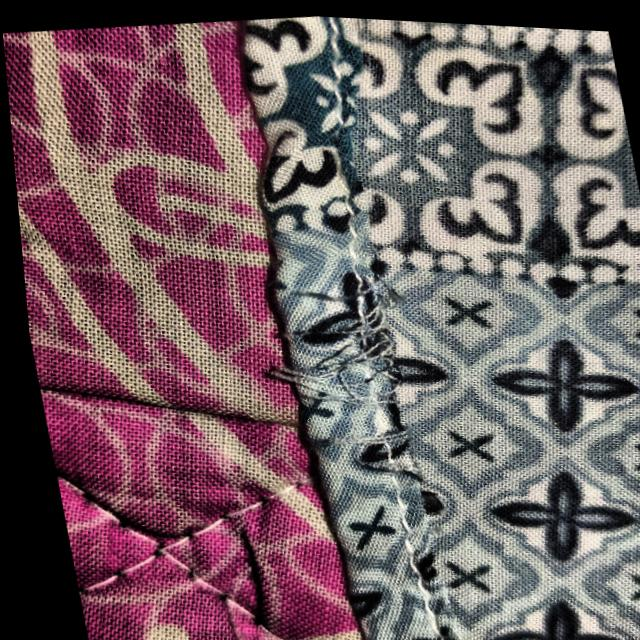Stitch: (299, 214, 457, 503)
